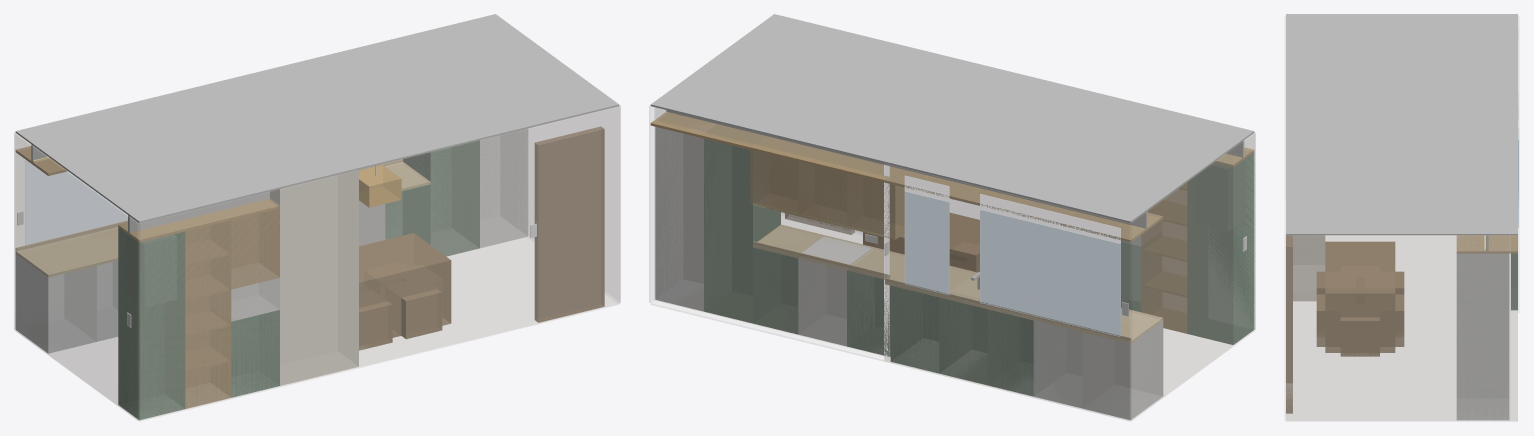
The model's file is cocina.obj.
3 views of the same model, side by side, from view 1: azimuth 30°, elevation 25°; view 2: azimuth 150°, elevation 25°; view 3: azimuth 270°, elevation 25° (orthographic). The views are drawn at different scales.
Visible parts, largest first — view 1: Pared Sur, Techo, Pared Oeste, Columna azulejo, Puerta, Suelo, Caldera, Vitrina, Lavadora, Mesa comedor, Escobero, Frigorífico (+16 smaller); view 2: Techo, Pared Norte izq, Pared Norte der, Pared Oeste, Ventana grande, Caldera, Escobero, Frigorífico, Cornisa Norte, Cajones, Lavadora, Vitrina (+21 smaller); view 3: Techo, Pared Este, Suelo, Frigorífico, Mesa comedor, Columna azulejo, Silla 6, Puerta, Cornisa Norte, Pared Sur, Pared Norte izq, Silla 2 (+4 smaller).
Part boxes in pixels (<box>): Pared Sur: <box>139,106,619,420</box>; Techo: <box>15,14,619,223</box>; Pared Oeste: <box>14,133,138,420</box>; Columna azulejo: <box>270,169,358,385</box>; Puerta: <box>534,126,604,322</box>; Suelo: <box>16,237,618,421</box>; Caldera: <box>118,227,185,420</box>; Vitrina: <box>185,220,231,408</box>; Lavadora: <box>15,254,96,353</box>; Mesa comedor: <box>359,233,451,337</box>; Escobero: <box>403,140,479,256</box>; Frigorífico: <box>480,128,528,248</box>; Techo: <box>650,14,1254,223</box>; Pared Norte izq: <box>884,163,1130,420</box>; Pared Norte der: <box>654,107,888,356</box>; Pared Oeste: <box>1131,133,1255,420</box>; Ventana grande: <box>980,210,1120,336</box>; Caldera: <box>1187,152,1254,344</box>; Escobero: <box>704,138,780,323</box>; Frigorífico: <box>655,127,703,311</box>; Cornisa Norte: <box>650,111,1163,242</box>; Cajones: <box>847,270,939,373</box>; Lavadora: <box>1082,320,1163,420</box>; Vitrina: <box>1141,182,1187,333</box>; Techo: <box>1286,14,1517,235</box>; Pared Este: <box>1286,235,1517,420</box>; Suelo: <box>1286,236,1517,421</box>; Frigorífico: <box>1456,253,1509,420</box>; Mesa comedor: <box>1325,241,1395,352</box>; Columna azulejo: <box>1293,235,1325,301</box>; Silla 6: <box>1340,317,1379,356</box>; Puerta: <box>1286,235,1292,413</box>; Cornisa Norte: <box>1456,235,1517,253</box>; Pared Sur: <box>1284,16,1285,419</box>; Pared Norte izq: <box>1518,16,1519,312</box>; Silla 2: <box>1316,294,1325,346</box>.
Bounding box in the file's own units: 5.98 × 2.37 × 2.69.
